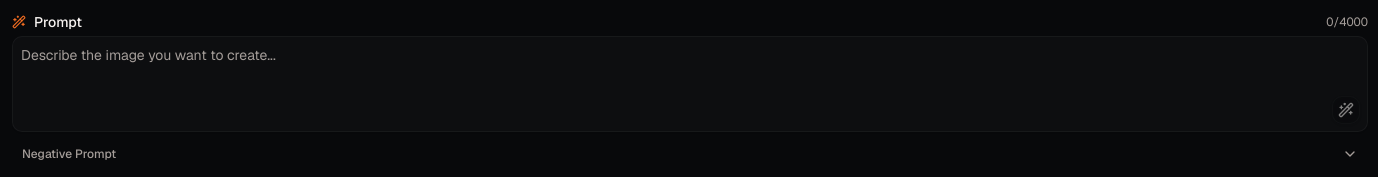
PromptSection › negative prompt EnhanceButton disabled state › enables positive enhance button independently of negative prompt content
The width and height of the screenshot is (1378, 177).
Note: Type in positive prompt
Type "A beautiful sunset" into the text box with test id "prompt-input" at (690, 84), box [12,36,1368,132]
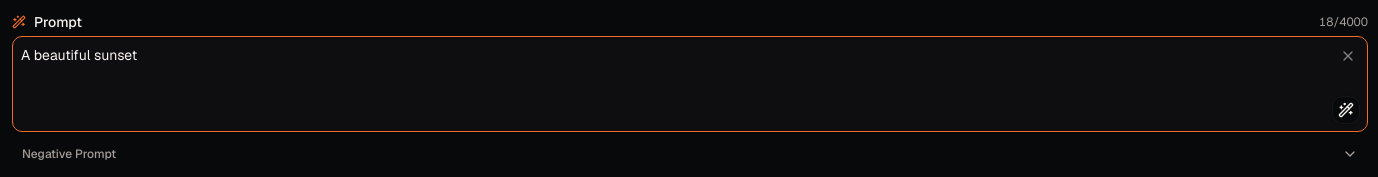
Now the button named "Enhance with AI" is enabled, box [1332,96,1360,124]
